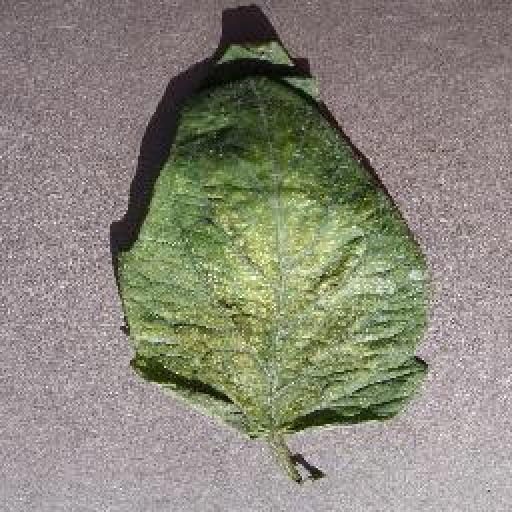disease_tomato: (114, 39, 428, 437)
